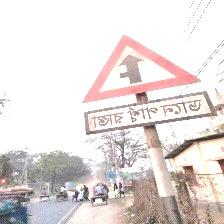Side-road-right: (81, 35, 213, 135)
